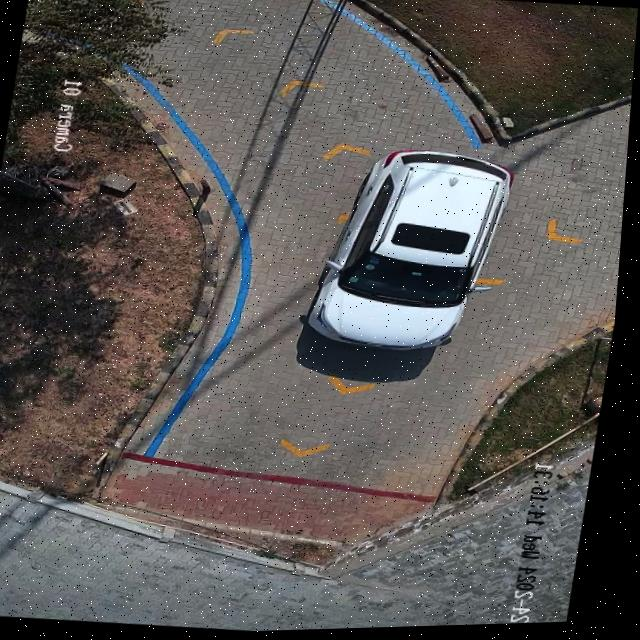car: (306, 152, 514, 351)
